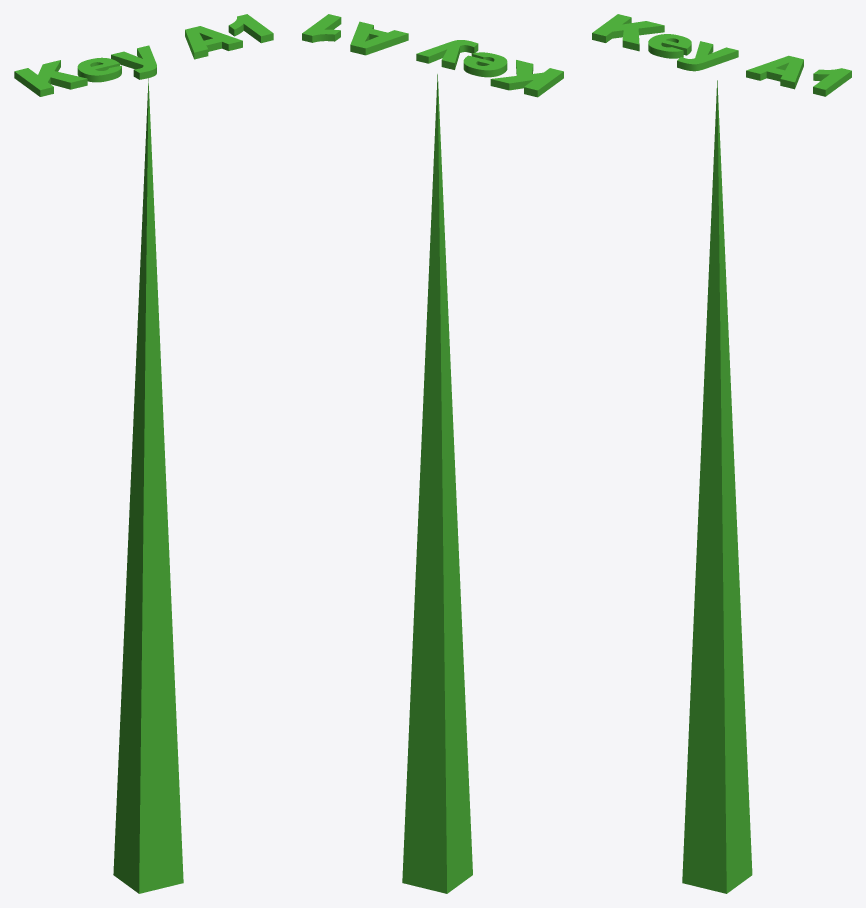
Rendered from Tag_Key_A1.FBX.
3 views of the same model, side by side, from view 1: azimuth 30°, elevation 25°; view 2: azimuth 150°, elevation 25°; view 3: azimuth 330°, elevation 25° (orthographic).
Parts seen in each view (by area): view 1: Tag_Nail_Key, Tag_Text_Key_A1; view 2: Tag_Nail_Key, Tag_Text_Key_A1; view 3: Tag_Nail_Key, Tag_Text_Key_A1.
Part boxes in pixels (left/top/right/bottom): Tag_Nail_Key: left=113, top=78, right=183, bottom=893; Tag_Text_Key_A1: left=14, top=14, right=273, bottom=96; Tag_Nail_Key: left=402, top=74, right=472, bottom=893; Tag_Text_Key_A1: left=302, top=14, right=563, bottom=97; Tag_Nail_Key: left=682, top=80, right=752, bottom=893; Tag_Text_Key_A1: left=592, top=14, right=851, bottom=96.
Size of the model in its own units: 577 by 1944 by 145.
